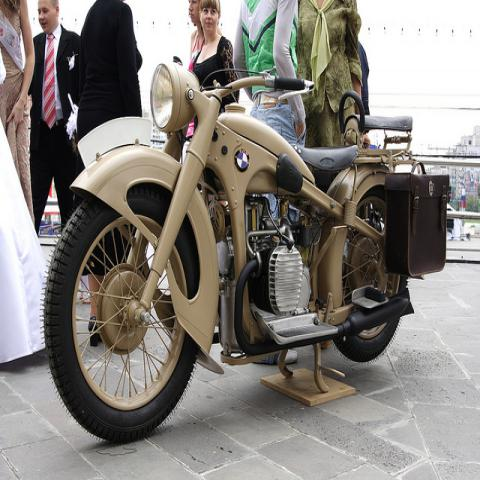motorcycle: (43, 62, 450, 445)
